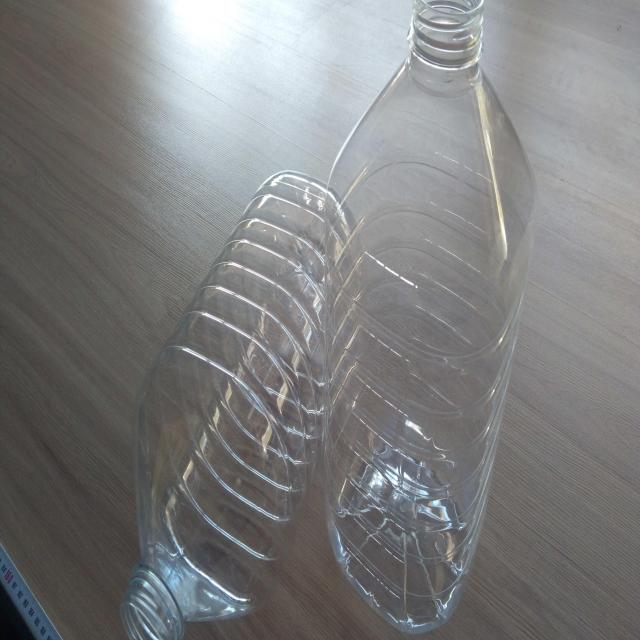plastic bottle: (325, 0, 537, 635), (119, 169, 360, 640)
